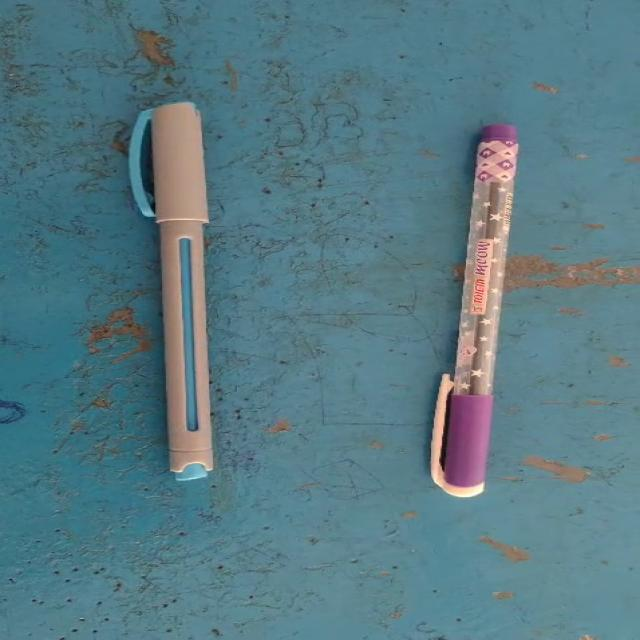pen: (373, 59, 561, 526), (117, 71, 279, 512)
